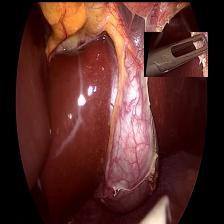Grasper: (143, 31, 207, 76)
